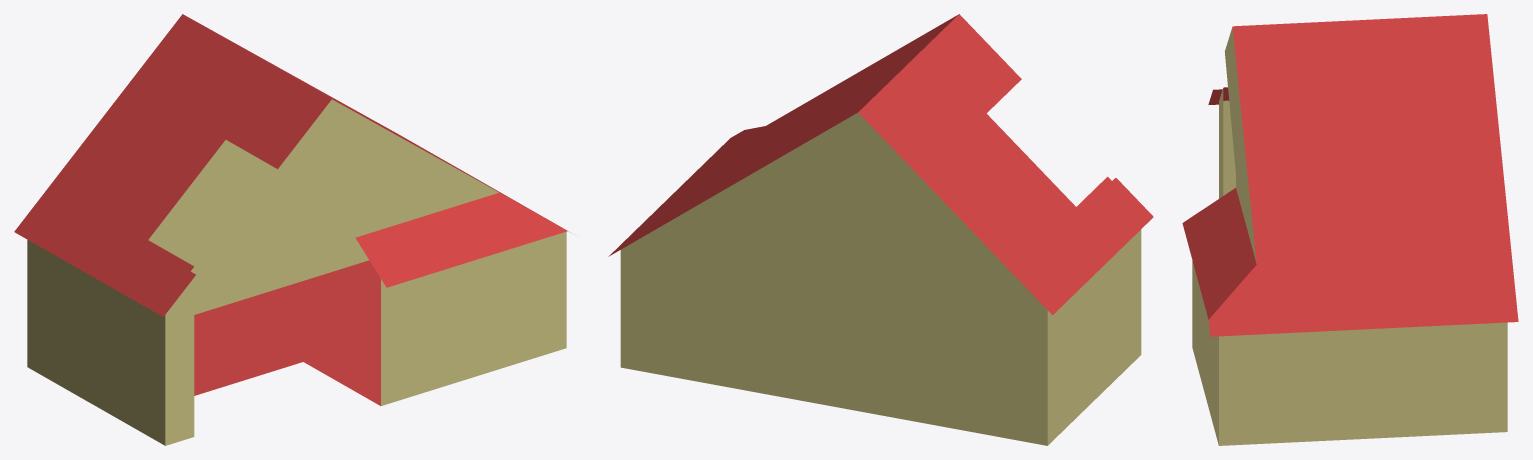
3 views of the same model, side by side, from view 1: azimuth 30°, elevation 25°; view 2: azimuth 150°, elevation 25°; view 3: azimuth 270°, elevation 25° (orthographic). The views are drawn at different scales.
Size of the model in its own units: 26.63 by 17.16 by 17.25.
